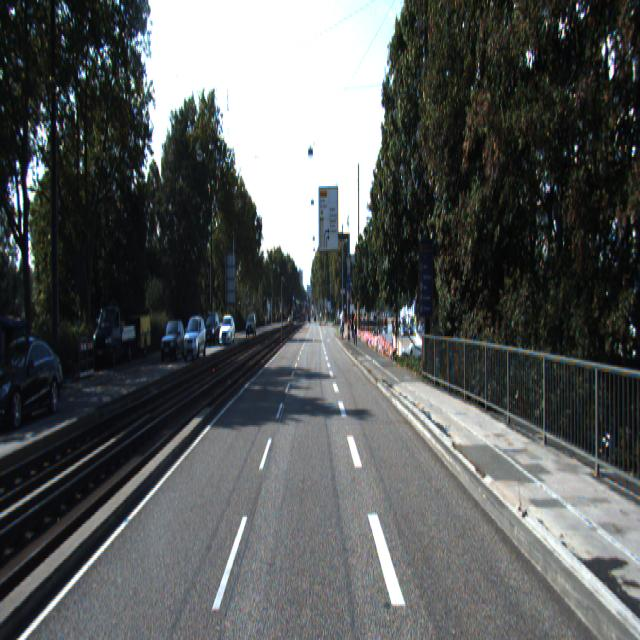Car: (0, 324, 71, 425), (160, 319, 190, 362), (183, 317, 206, 363), (218, 313, 237, 348), (203, 312, 221, 348)
DontCare: (359, 302, 430, 338), (349, 304, 358, 352), (246, 313, 256, 338), (339, 306, 345, 338)
Misc: (133, 313, 152, 357)
Van: (92, 300, 136, 366)
